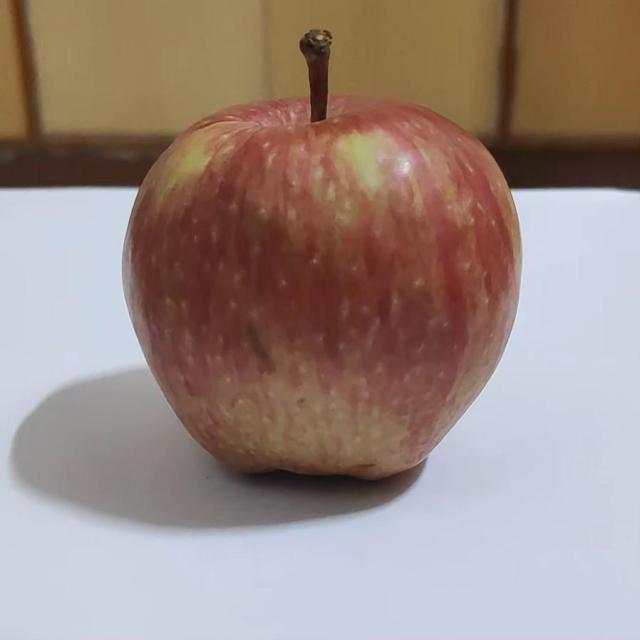Apple: (123, 30, 521, 478)
